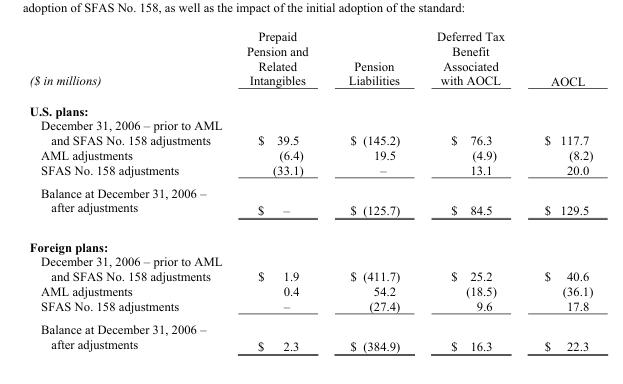table: (28, 28, 592, 352)
table column: (28, 28, 233, 352), (417, 28, 523, 352), (233, 28, 327, 352), (327, 28, 417, 352), (523, 28, 592, 352)
table column header: (28, 28, 592, 95)
table projected row header: (28, 228, 592, 253), (28, 95, 592, 117)
table row: (28, 28, 592, 95), (28, 180, 592, 228), (28, 316, 592, 352), (28, 117, 592, 147), (28, 253, 592, 283), (28, 228, 592, 253), (28, 95, 592, 117), (28, 162, 592, 180), (28, 298, 592, 316), (28, 147, 592, 162), (28, 283, 592, 298)
